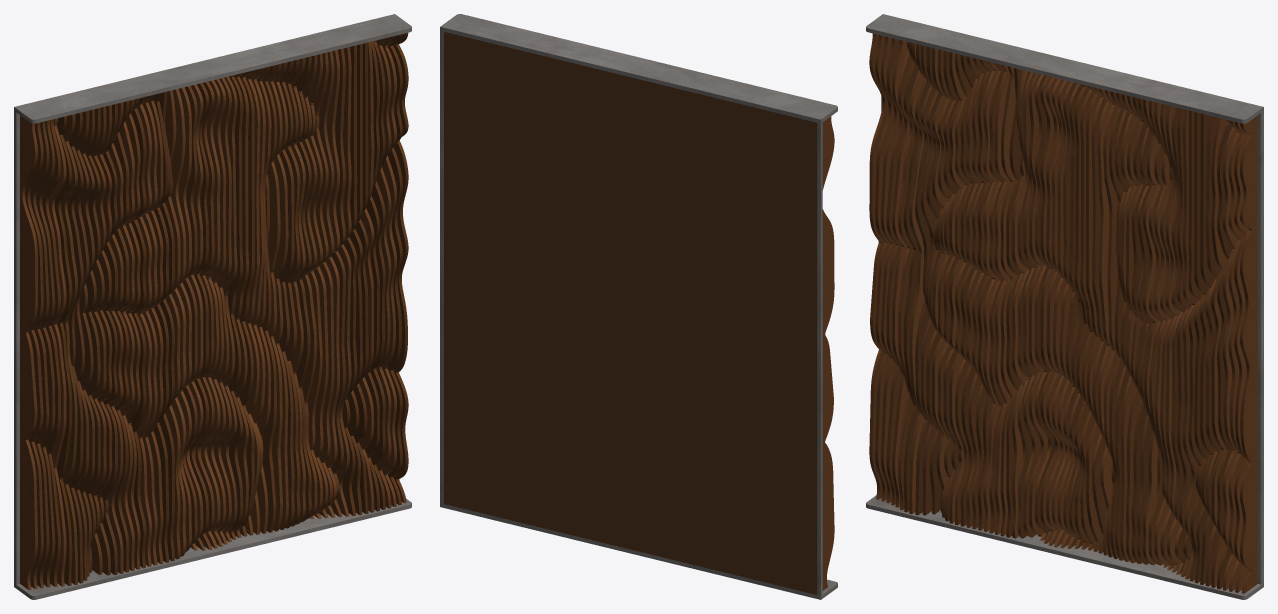
The model's file is pm_wall.glb.
3 renders of one model, left to right at view 1: azimuth 30°, elevation 25°; view 2: azimuth 150°, elevation 25°; view 3: azimuth 330°, elevation 25°, orthographic.
Parts seen in each view (by area): view 1: PM_WALL_WALL_0, PM_WALL_Concrete_0; view 2: PM_WALL_BG_0, PM_WALL_Concrete_0, PM_WALL_WALL_0; view 3: PM_WALL_WALL_0, PM_WALL_Concrete_0.
Part boxes in pixels (box(x1,y1,x2,y2)): PM_WALL_WALL_0: box(20, 33, 408, 589); PM_WALL_Concrete_0: box(14, 14, 411, 599); PM_WALL_BG_0: box(444, 32, 817, 594); PM_WALL_Concrete_0: box(440, 14, 837, 599); PM_WALL_WALL_0: box(822, 116, 834, 590); PM_WALL_WALL_0: box(869, 33, 1257, 593); PM_WALL_Concrete_0: box(866, 14, 1263, 599).
Size of the model in its own units: 2.03 by 2.44 by 0.1701.
Materials: 3 (2 with a texture image).
